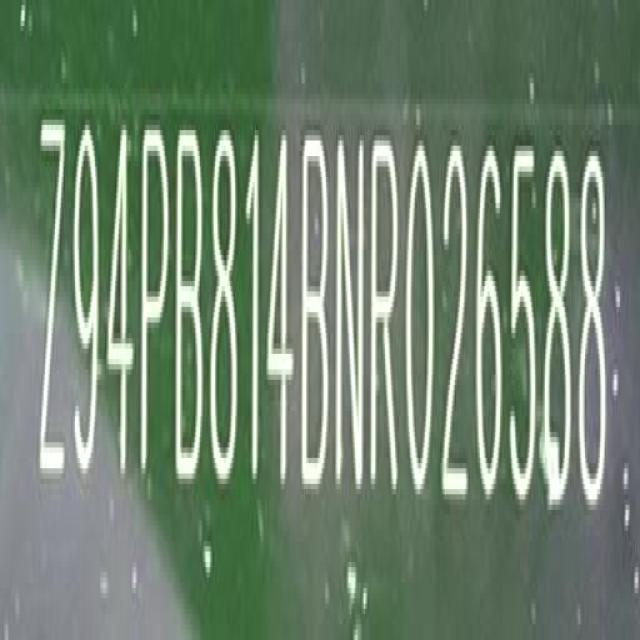0: (407, 145, 438, 508)
1: (245, 127, 263, 496)
2: (442, 144, 472, 507)
4: (267, 130, 297, 498), (109, 119, 138, 494)
5: (509, 142, 539, 511)
6: (474, 143, 504, 508)
8: (577, 150, 608, 518), (544, 147, 574, 514), (210, 126, 240, 492)
9: (71, 122, 102, 492)
B: (303, 131, 334, 498), (177, 122, 207, 490)
N: (339, 133, 369, 502)
P: (138, 119, 170, 493)
R: (370, 137, 403, 503)
Z: (39, 113, 69, 498)
